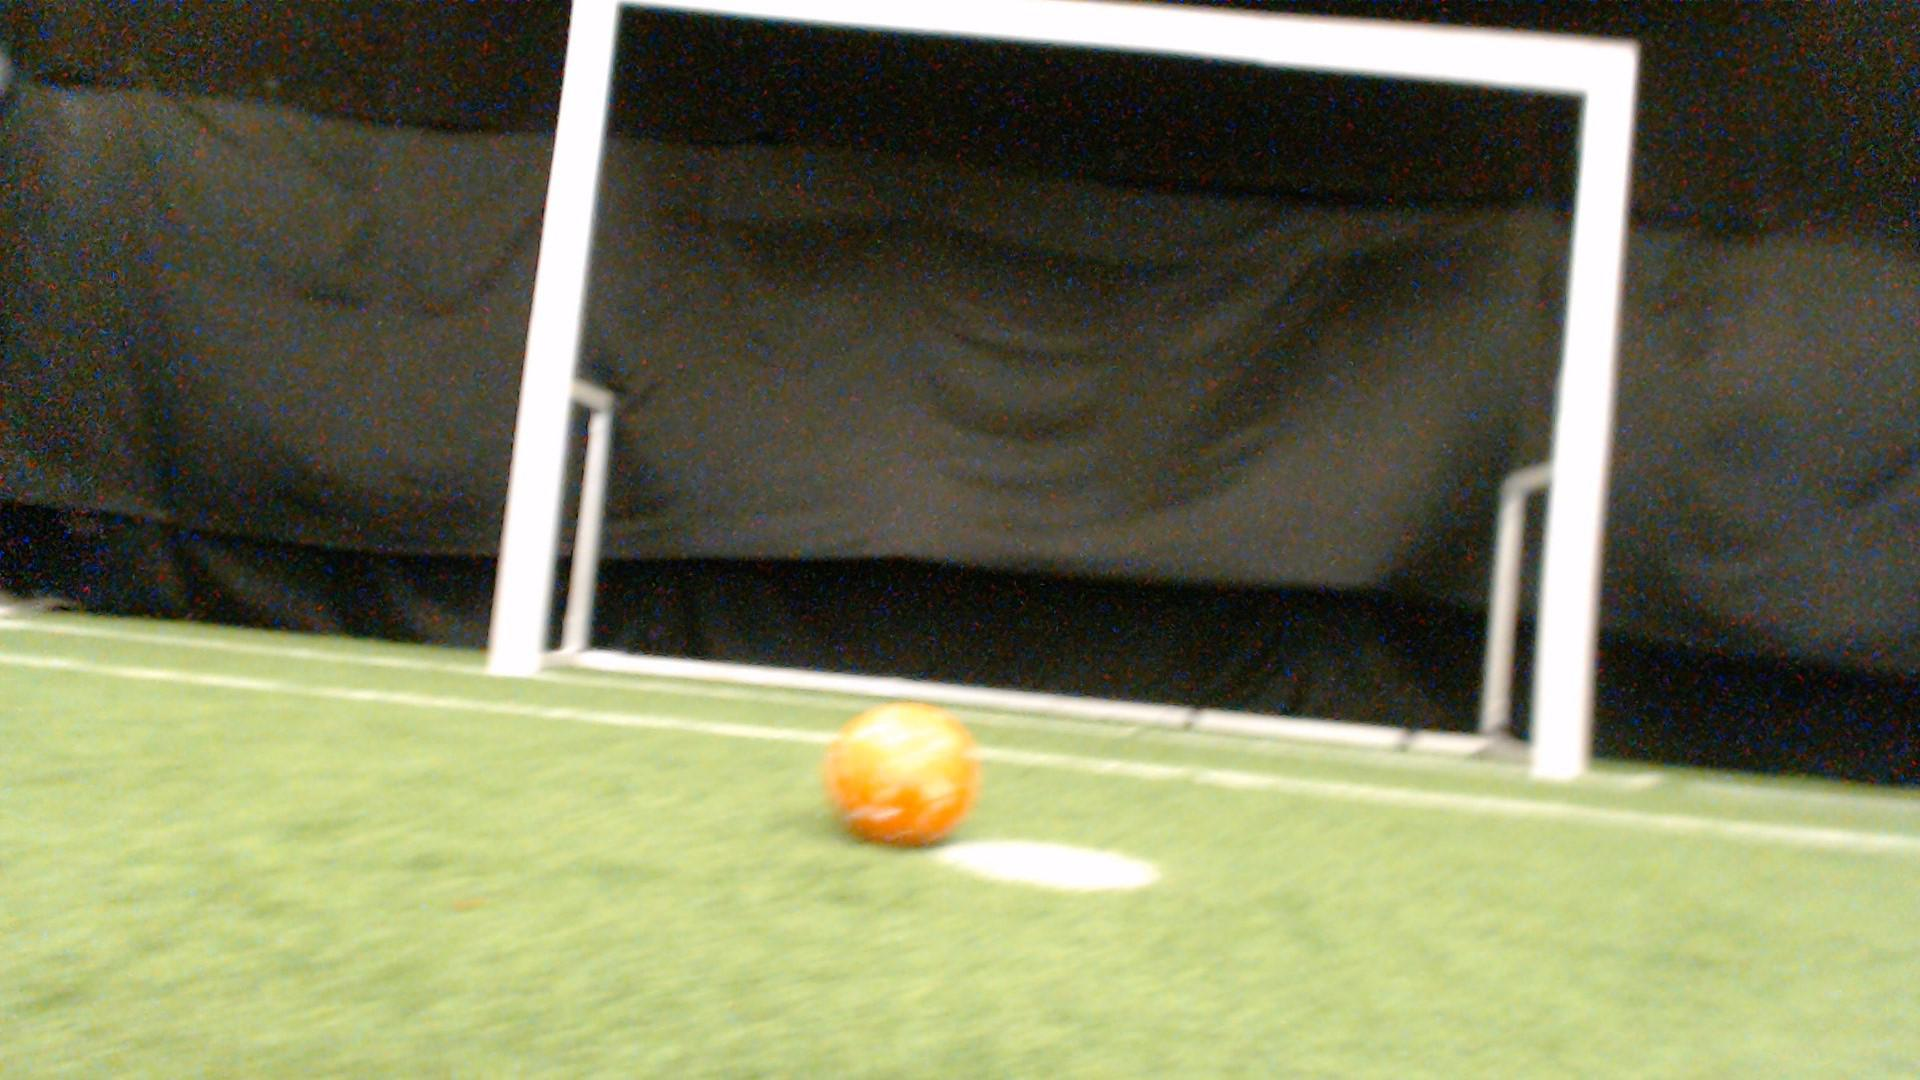bola: (815, 692, 1001, 861)
